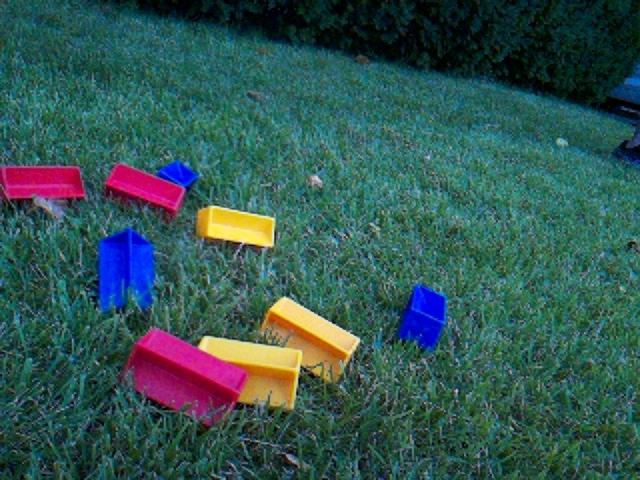blue: (96, 227, 158, 315), (397, 282, 449, 354), (156, 159, 200, 190)
red: (121, 327, 249, 429), (103, 161, 187, 217), (1, 163, 87, 204)
yellow: (259, 295, 362, 385), (198, 334, 303, 413), (195, 204, 277, 250)
